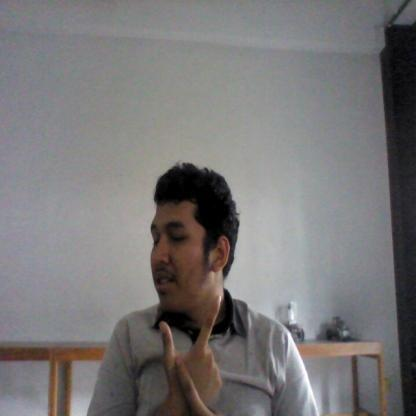Y: (156, 294, 226, 416)
